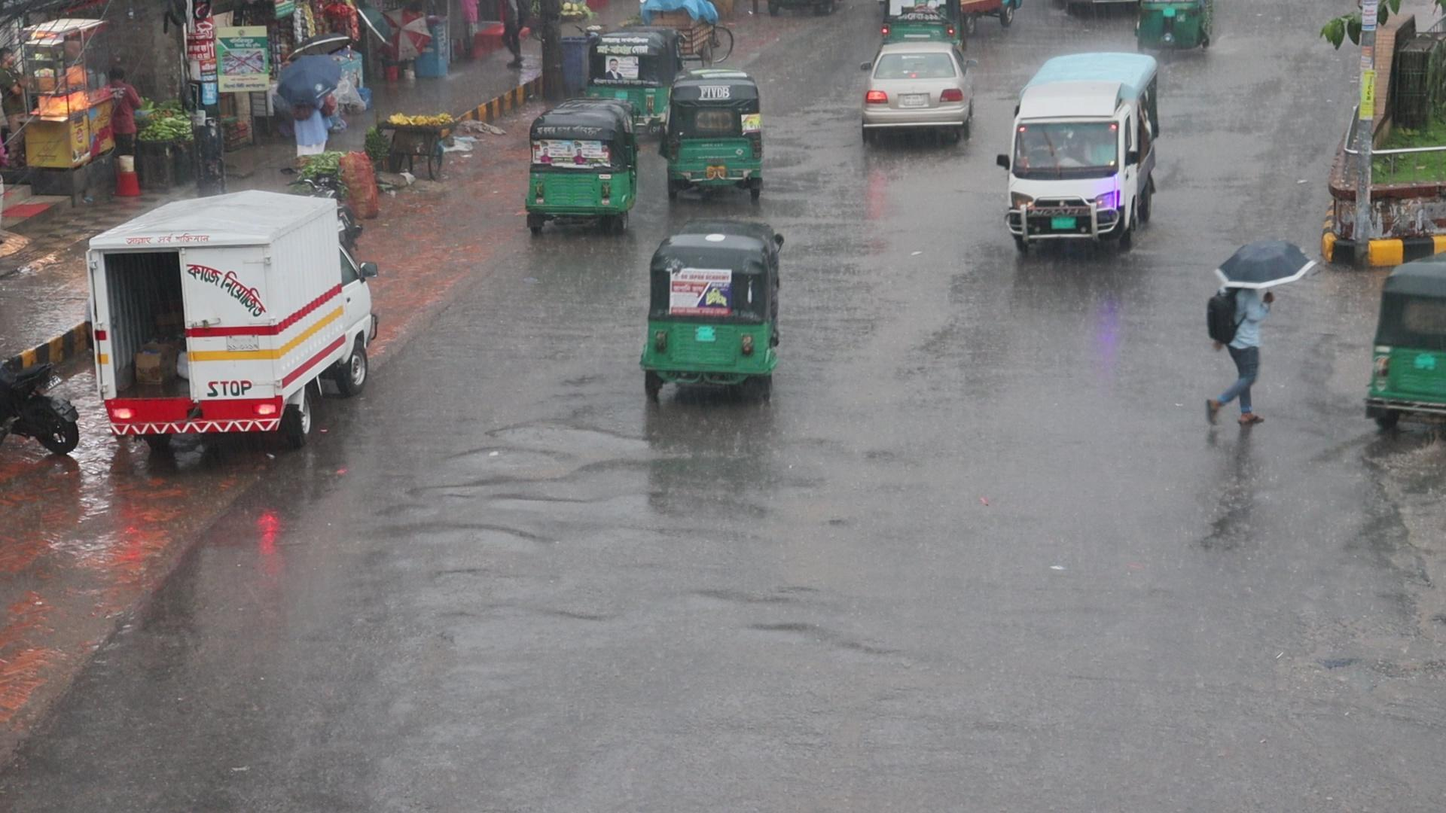Car: (859, 41, 976, 138)
Truck: (998, 50, 1162, 247)
